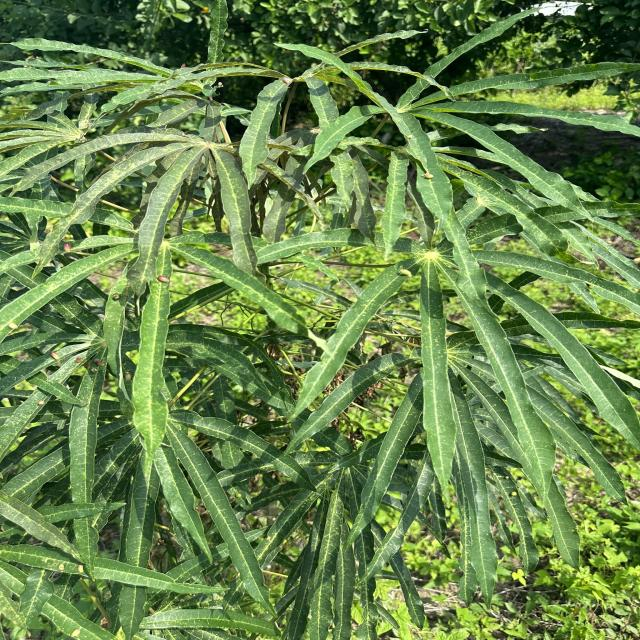Mosca: (413, 159, 445, 191), (55, 227, 78, 269), (41, 342, 71, 372), (26, 387, 54, 415), (388, 257, 414, 283), (492, 479, 518, 505), (0, 313, 25, 339), (148, 265, 169, 293)
